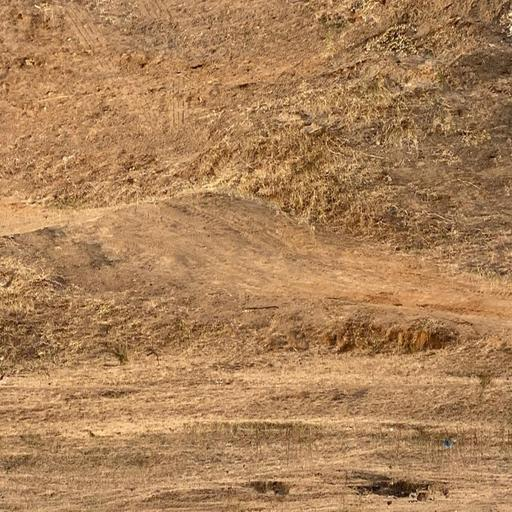vehicle_track: (73, 187, 512, 323)
